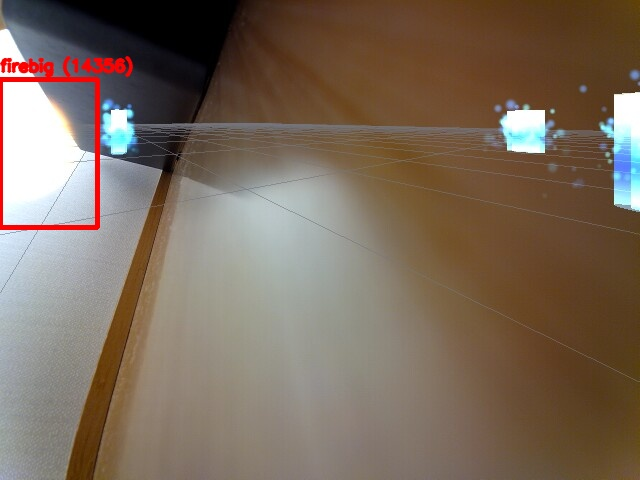firebig: (0, 79, 97, 227)
